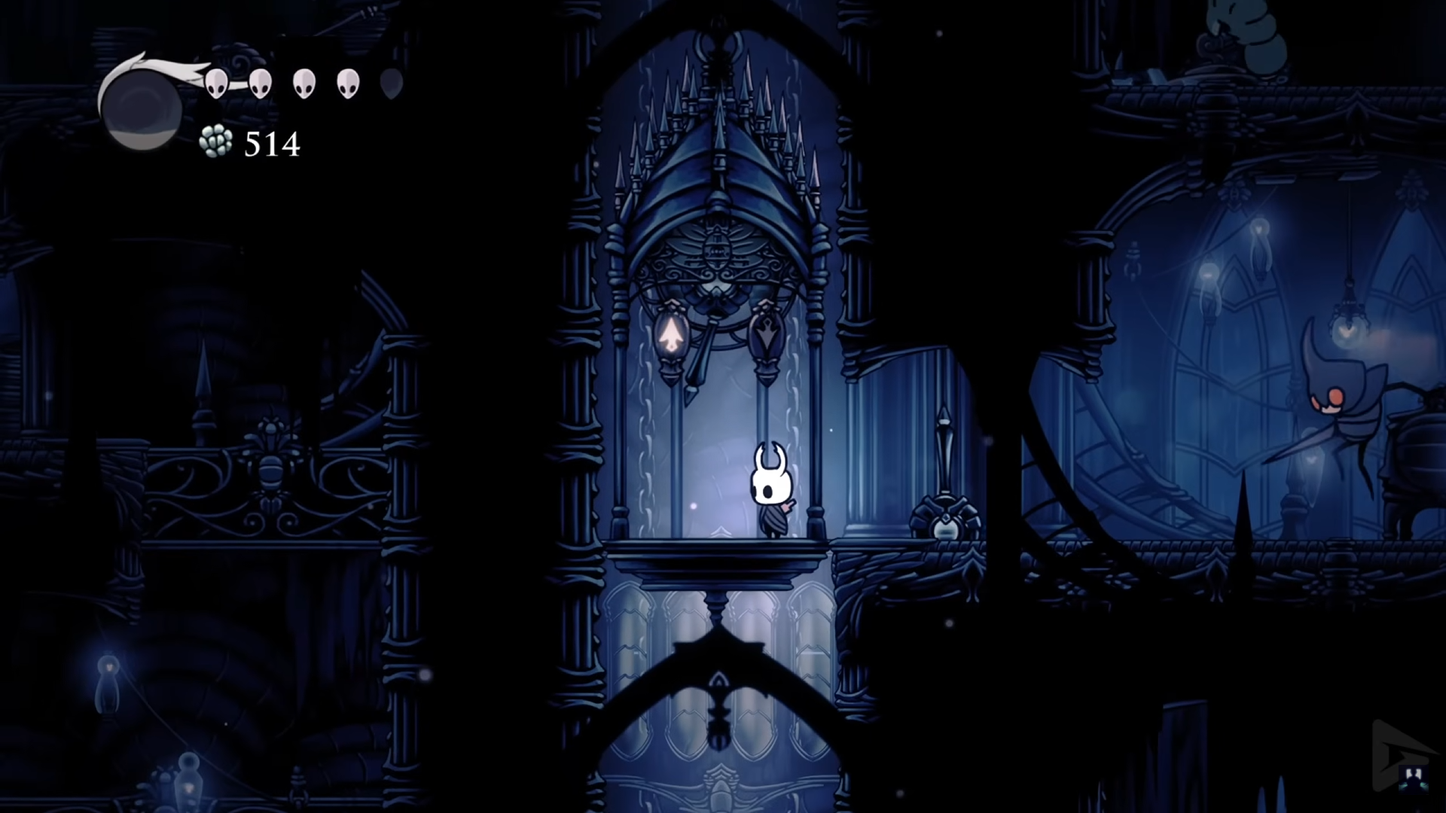HK: (744, 439, 803, 539)
